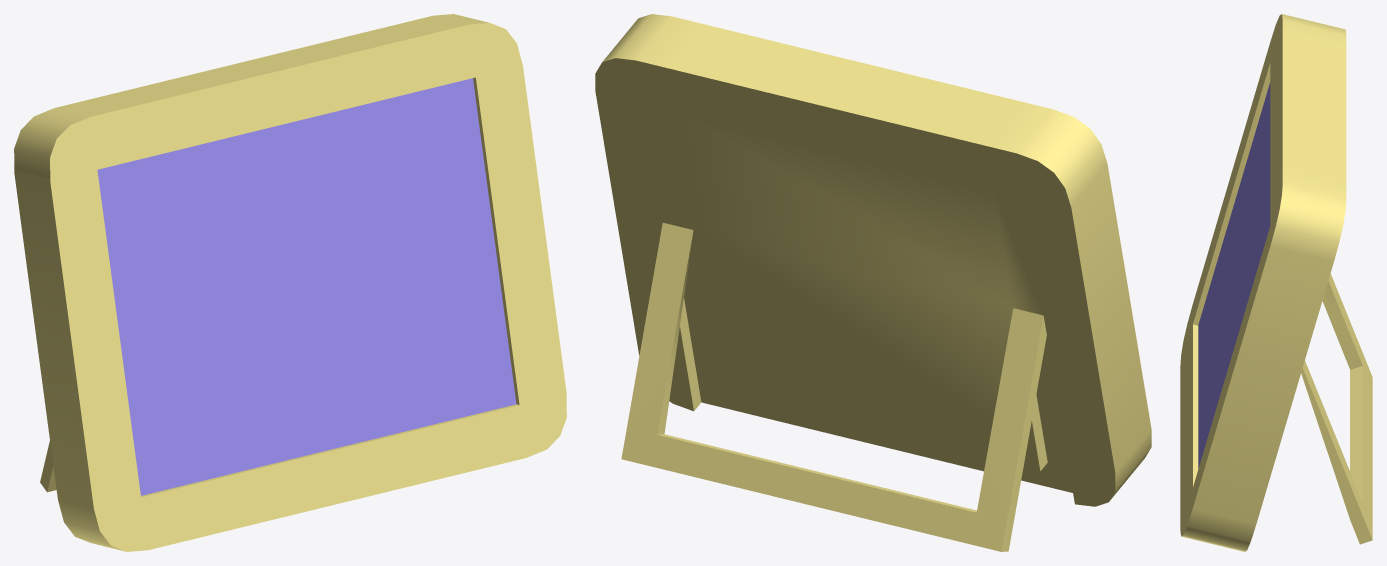
File: Digital_Clock.fbx
The picture shows the model from 3 angles, left to right: view 1: azimuth 30°, elevation 25°; view 2: azimuth 150°, elevation 25°; view 3: azimuth 270°, elevation 25°; orthographic projection. The views are drawn at different scales.
Visible parts, largest first — view 1: horloge; view 2: horloge; view 3: horloge.
Part boxes in pixels (x1=…): horloge: x1=14, y1=14, x2=566, y2=551; horloge: x1=595, y1=14, x2=1151, y2=551; horloge: x1=1180, y1=14, x2=1372, y2=551.
Size of the model in its own units: 22 by 18.16 by 8.75.
